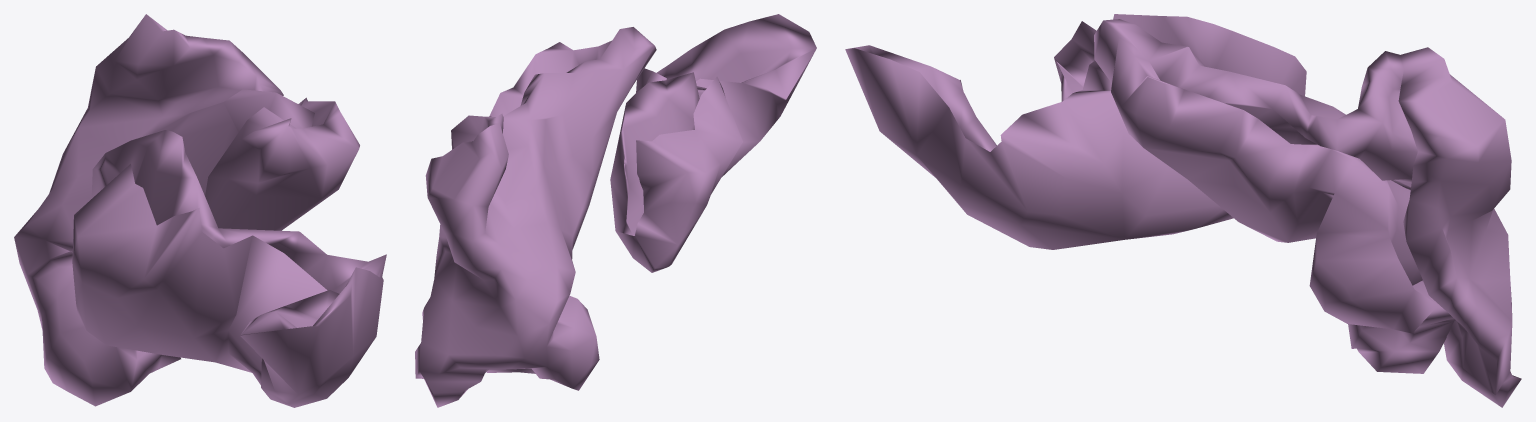
3 renders of one model, left to right at view 1: azimuth 30°, elevation 25°; view 2: azimuth 150°, elevation 25°; view 3: azimuth 270°, elevation 25°, orthographic. The views are drawn at different scales.
Visible parts, largest first — view 1: 右侧顶枕沟; view 2: 右侧顶枕沟; view 3: 右侧顶枕沟.
Boxes of the visible parts, x1,y1,x2,y2 form: 右侧顶枕沟: (14,14,386,407); 右侧顶枕沟: (415,14,816,407); 右侧顶枕沟: (845,14,1521,407).
Size of the model in its own units: 0.0331 by 0.044 by 0.0747.
